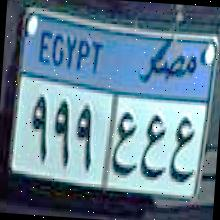9: (71, 95, 99, 178), (23, 89, 52, 169), (48, 96, 74, 176)
ain: (136, 108, 172, 191), (167, 109, 198, 194), (107, 108, 141, 184)
